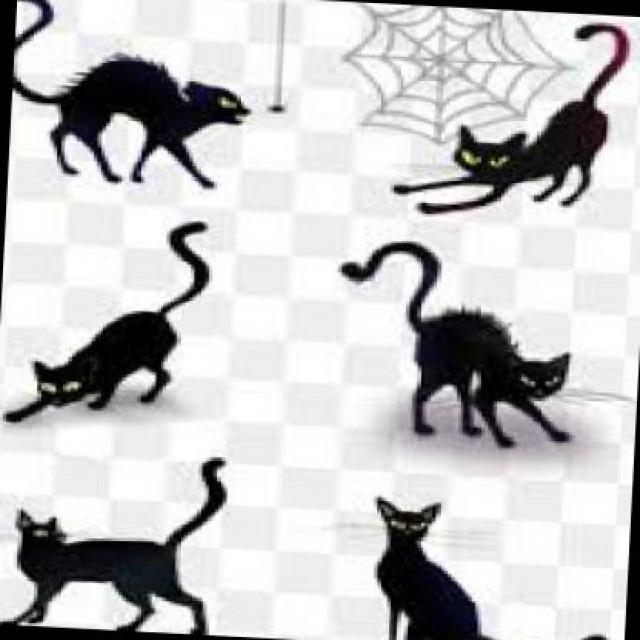animals: (321, 230, 608, 458), (0, 200, 231, 445), (381, 8, 630, 232), (0, 435, 274, 637), (6, 0, 268, 208), (354, 486, 628, 639)
